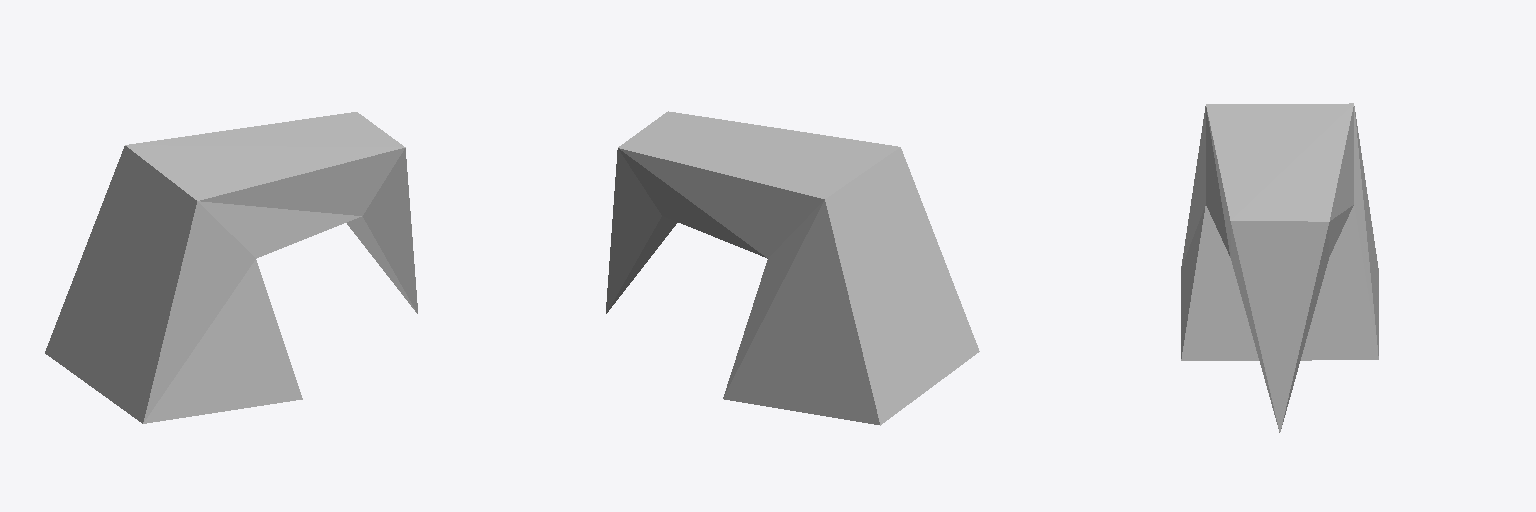
The model's file is skeletal_000022.obj.
3 renders of one model, left to right at view 1: azimuth 30°, elevation 25°; view 2: azimuth 150°, elevation 25°; view 3: azimuth 270°, elevation 25°, orthographic.
Parts seen in each view (by area): view 1: Cube; view 2: Cube; view 3: Cube.
Part boxes in pixels (left/top/right/bottom): Cube: left=45, top=112, right=417, bottom=423; Cube: left=606, top=111, right=979, bottom=425; Cube: left=1181, top=103, right=1378, bottom=432.
Size of the model in its own units: 3.79 by 2.38 by 2.